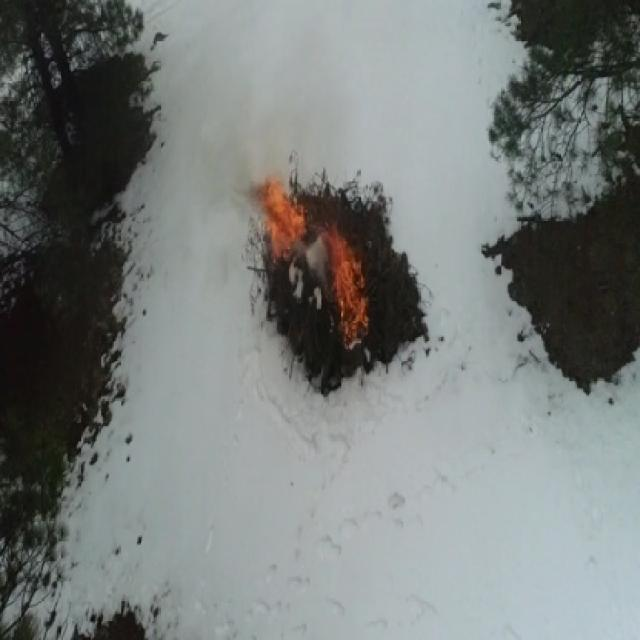Fire: (332, 249, 363, 346), (264, 181, 288, 262), (276, 202, 305, 242), (326, 226, 347, 250)
